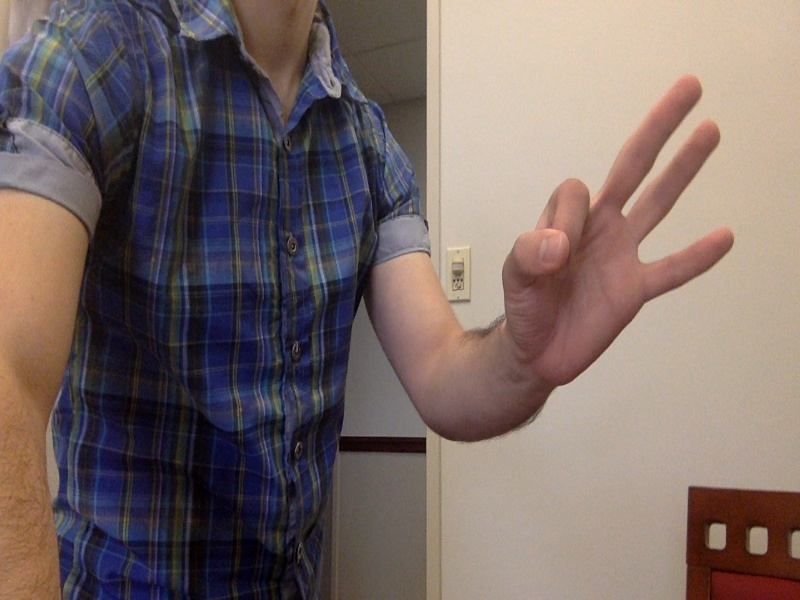3-hand: (503, 74, 736, 400)
